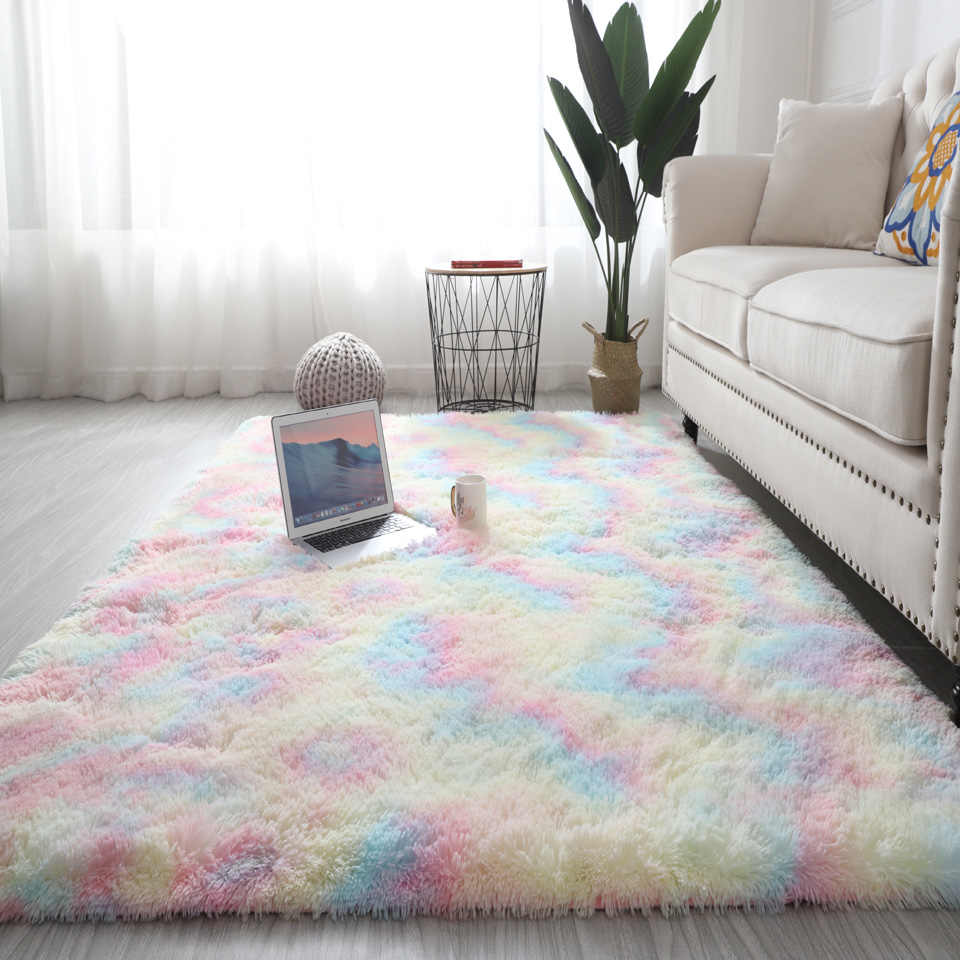putih: (674, 166, 877, 459), (764, 91, 881, 246)
